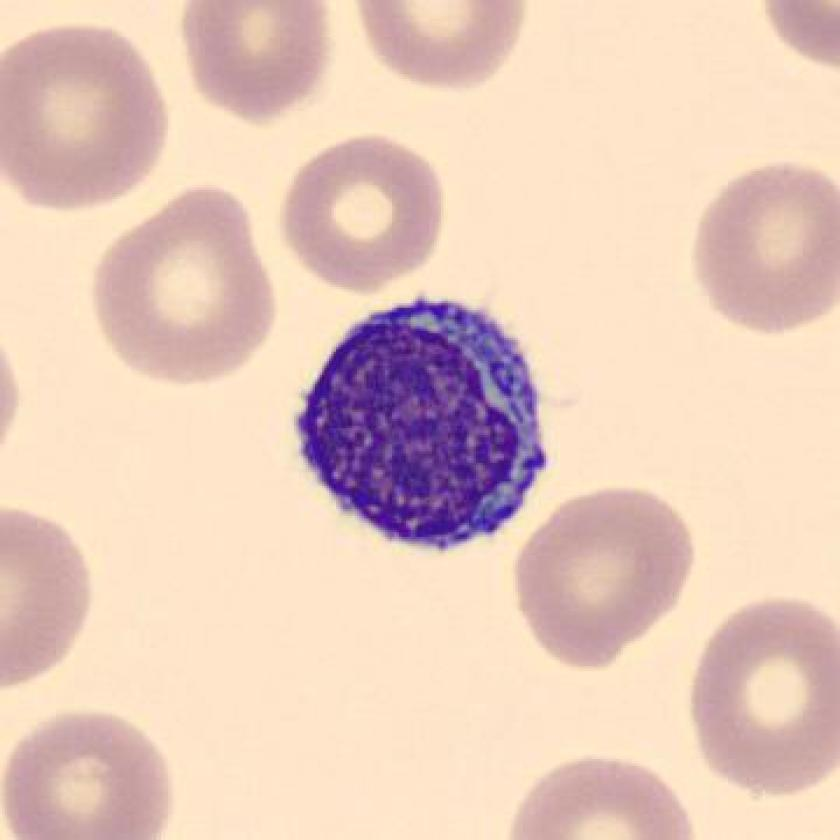lymphocyte: (284, 279, 564, 580)
